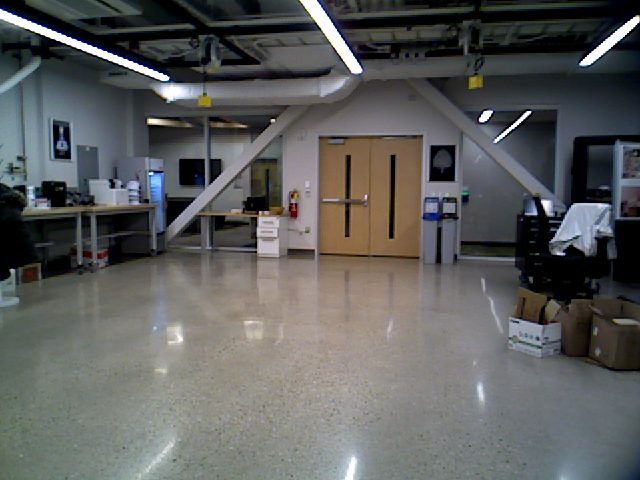painting1: (425, 147, 459, 183)
painting2: (48, 119, 73, 163)
